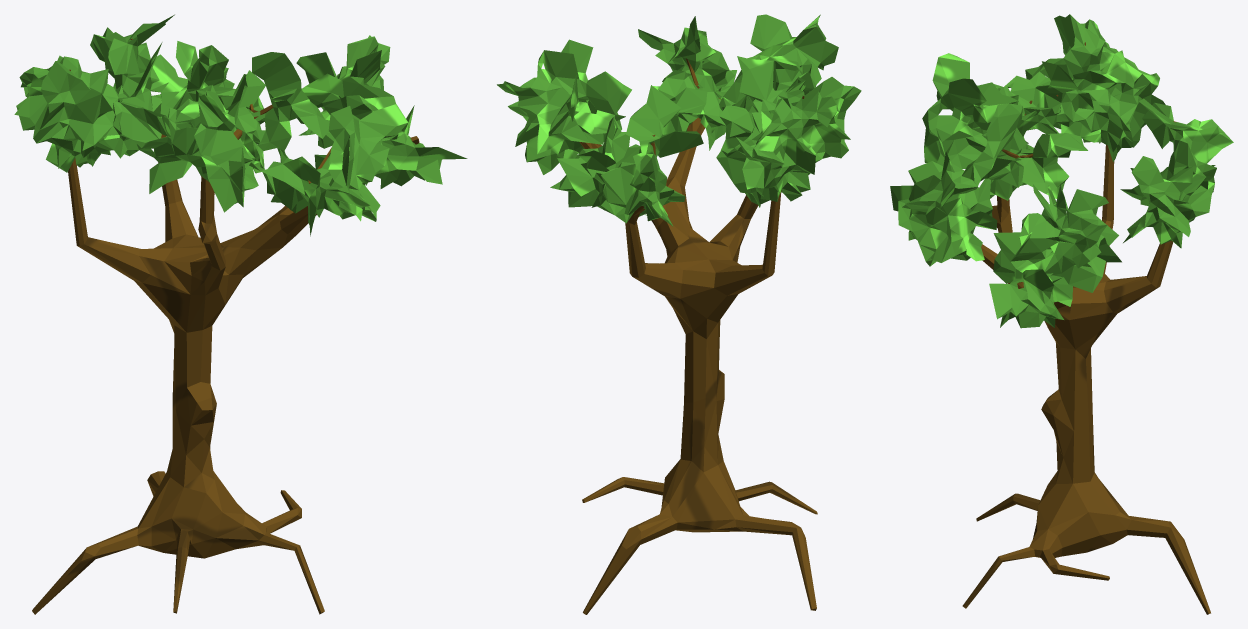
The model's file is arbol4LowRes .fbx.
3 renders of one model, left to right at view 1: azimuth 30°, elevation 25°; view 2: azimuth 150°, elevation 25°; view 3: azimuth 270°, elevation 25°, orthographic. The views are drawn at different scales.
Parts seen in each view (by area): view 1: Vert.008; view 2: Vert.008; view 3: Vert.008.
Part boxes in pixels (left/top/right/bottom): Vert.008: left=14, top=14, right=467, bottom=614; Vert.008: left=497, top=14, right=861, bottom=614; Vert.008: left=890, top=14, right=1233, bottom=614.
Bounding box in the file's own units: 594 × 721 × 986.
